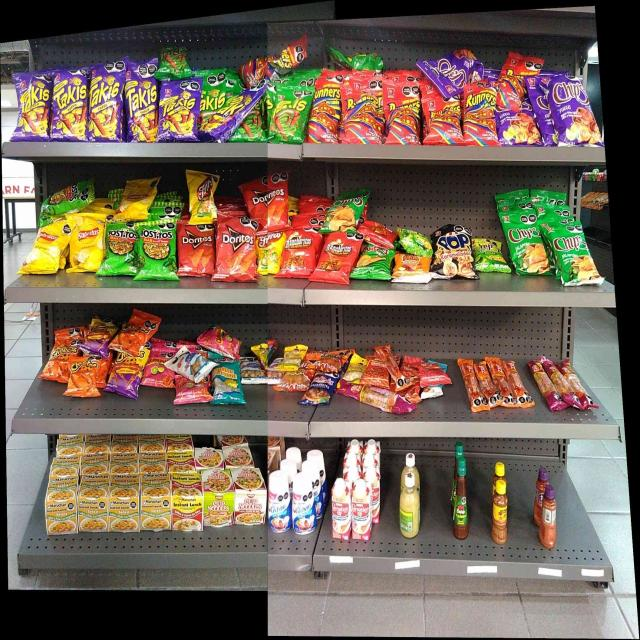bitzEnchilado90: (417, 364, 447, 386), (366, 354, 385, 387)
bitzEnchilado95: (457, 358, 522, 411)
bitzHabanero: (531, 359, 587, 410), (349, 388, 404, 411)
bokadosCacahuates: (312, 369, 333, 403)
botaneraChilito: (492, 479, 507, 544)
cheetosFlaminHot: (112, 356, 140, 398), (84, 316, 112, 354)
cheetosOriginal: (72, 356, 101, 396), (118, 318, 149, 351), (50, 338, 70, 381)
chipsFuego: (547, 76, 595, 147), (499, 110, 541, 144), (435, 51, 483, 79)
chipsJalapeno: (508, 213, 548, 274), (550, 222, 588, 284), (326, 198, 358, 230)
chipsPapatinas: (474, 238, 506, 272), (399, 227, 431, 254)
churrumais: (144, 356, 171, 386), (206, 330, 238, 355), (176, 383, 212, 402)
delPrimoSalsa: (400, 471, 419, 535)
doritosNacho: (218, 214, 256, 280), (179, 227, 214, 279), (270, 176, 288, 228), (243, 178, 267, 211)
fritosLimon: (188, 169, 216, 224), (258, 234, 282, 274)
hotNutsOriginal: (394, 255, 429, 282)
leoCacahuates: (174, 348, 204, 378), (245, 356, 262, 382)
leoMix: (281, 373, 310, 392)
maruchanPollo: (45, 478, 77, 533), (110, 473, 138, 532), (142, 473, 170, 532), (80, 476, 108, 530)
maruchanRes: (173, 472, 203, 530)
nestleCarnation: (352, 480, 371, 540), (332, 479, 350, 540)
nestleLechera: (269, 474, 290, 531), (293, 475, 314, 532)
nissinCamaron: (204, 468, 233, 525)
nissinRes: (235, 467, 264, 524)
popKarameladas: (432, 230, 472, 277)
rancheritos: (318, 234, 350, 284), (283, 231, 316, 278)
rufflesQueso: (358, 246, 390, 281)
runners: (340, 82, 382, 144), (384, 79, 420, 145), (465, 84, 497, 148), (422, 96, 462, 146), (310, 87, 338, 144), (243, 50, 298, 79), (499, 51, 523, 107)
sabritasOriginal: (68, 213, 104, 271), (30, 228, 65, 272), (120, 181, 153, 220)
salsaBufalo: (454, 458, 468, 538)
semillasCalabaza: (346, 354, 364, 382), (286, 346, 302, 370)
semillasGirasol: (214, 364, 243, 403)
tajinDulce: (542, 484, 558, 548)
takisFuego: (88, 64, 124, 141), (126, 65, 158, 144), (52, 72, 86, 140), (160, 82, 198, 140), (17, 76, 51, 139), (202, 103, 237, 141)
takisOriginal: (269, 86, 308, 142), (161, 48, 192, 78), (202, 71, 225, 101), (243, 118, 268, 141)
tostitos: (139, 222, 177, 280), (106, 223, 136, 276), (44, 184, 90, 209)
